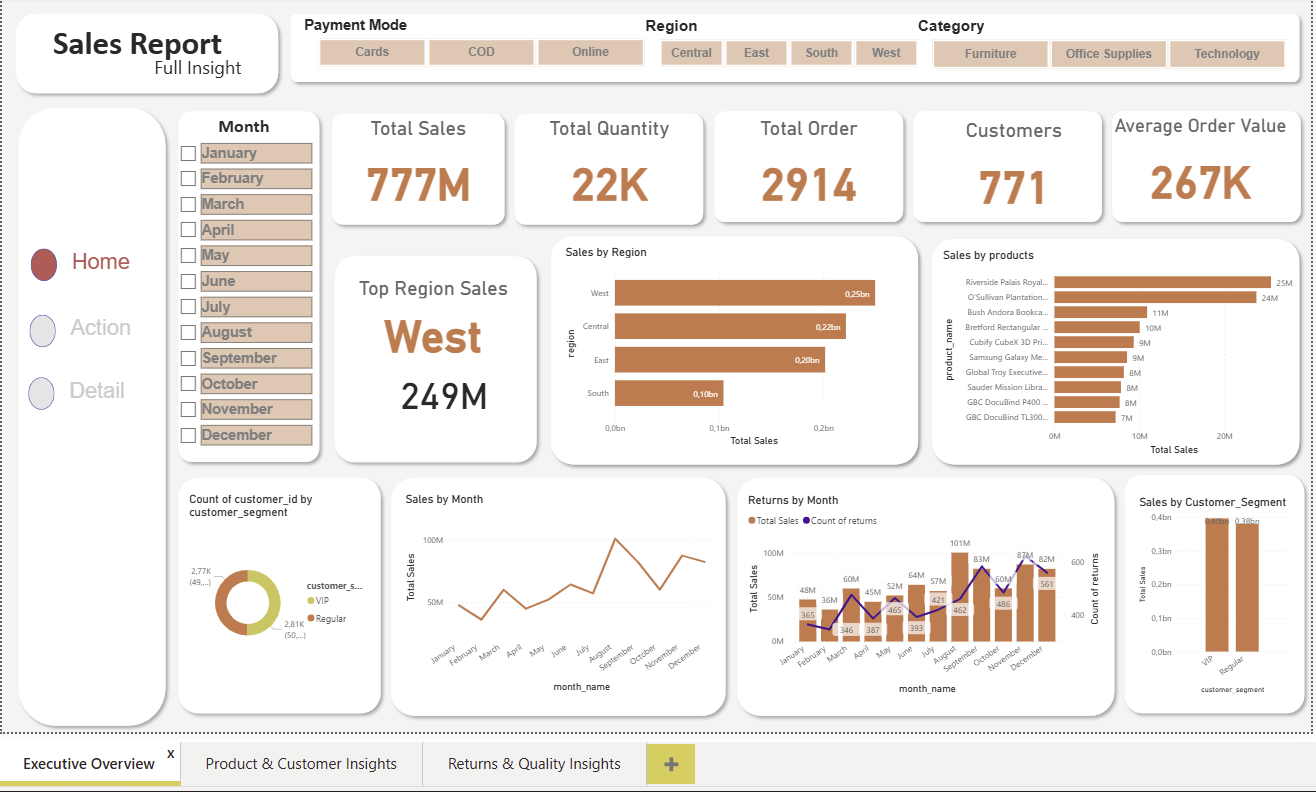

What the dashboard file says about the page in this screenshot:
{"tool":"powerbi","page":{"name":"Executive Overview","canvas":[1600,1000],"ordinal":0},"visuals":[{"type":"slicer","fields":{"Values":["sales_clean.category"]},"box":[50.1,20.7,229.8,79.5],"z":0},{"type":"slicer","fields":{"Values":["sales_clean.month_name"]},"box":[1292.4,25.9,293.7,95],"z":1000},{"type":"slicer","fields":{"Values":["sales_clean.region"]},"box":[611.7,20.7,255.7,79.5],"z":2000},{"type":"card","fields":{"Values":["sales_clean.Total Sales"]},"box":[50.1,157.2,260.9,129.6],"z":3000},{"type":"card","fields":{"Values":["sales_clean.Total Order"]},"box":[1054,155.5,219.4,126.1],"z":5000},{"type":"card","fields":{"Values":["sales_clean.Distinct Customers"]},"box":[1327,159,222.9,122.7],"z":6000},{"type":"card","fields":{"Values":["sales_clean.Total_Quantity"]},"box":[380.1,157.2,231.5,129.6],"z":7000},{"type":"slicer","fields":{"Values":["sales_clean.customer_segment"]},"box":[898.5,27.6,362.9,84.7],"z":8000},{"type":"lineChart","fields":{"Y":["sales_clean.Total Sales"],"Category":["sales_clean.month_name"]},"box":[46.7,343.8,651.4,319.7],"z":9000},{"type":"clusteredBarChart","fields":{"Category":["sales_clean.product_name"],"Y":["sales_clean.Total Sales"]},"box":[762,343.8,743,319.7],"z":10000},{"type":"clusteredBarChart","fields":{"Category":["sales_clean.region"],"Y":["sales_clean.Total Sales"]},"box":[46.7,701.5,485.5,250.5],"z":11000},{"type":"clusteredBarChart","fields":{"Category":["sales_clean.customer_segment"],"Y":["sales_clean.Total Sales"]},"box":[575.4,701.5,464.8,245.4],"z":12000},{"type":"clusteredBarChart","fields":{"Y":["CountNonNull(sales_clean.returns)"],"Category":["sales_clean.month_name"]},"box":[1093.7,701.5,464.8,279.9],"z":13000},{"type":"slicer","fields":{"Values":["sales_clean.sub-category"]},"box":[311,20.7,255.7,79.5],"z":14000}]}

Visuals, with their boxes on the page's 1600x1000 design canvas (x1, y1, x2, y2). These are canvas units, not pixel positions in the 1316x792 screenshot, which may show the page scaled, cropped or inside an application window:
slicer - sales_clean.category: {"x1": 50, "y1": 21, "x2": 280, "y2": 100}
slicer - sales_clean.month_name: {"x1": 1292, "y1": 26, "x2": 1586, "y2": 121}
slicer - sales_clean.region: {"x1": 612, "y1": 21, "x2": 867, "y2": 100}
card - sales_clean.Total Sales: {"x1": 50, "y1": 157, "x2": 311, "y2": 287}
card - sales_clean.Total Order: {"x1": 1054, "y1": 156, "x2": 1273, "y2": 282}
card - sales_clean.Distinct Customers: {"x1": 1327, "y1": 159, "x2": 1550, "y2": 282}
card - sales_clean.Total_Quantity: {"x1": 380, "y1": 157, "x2": 612, "y2": 287}
slicer - sales_clean.customer_segment: {"x1": 898, "y1": 28, "x2": 1261, "y2": 112}
lineChart - sales_clean.Total Sales x sales_clean.month_name: {"x1": 47, "y1": 344, "x2": 698, "y2": 664}
clusteredBarChart - sales_clean.product_name x sales_clean.Total Sales: {"x1": 762, "y1": 344, "x2": 1505, "y2": 664}
clusteredBarChart - sales_clean.region x sales_clean.Total Sales: {"x1": 47, "y1": 702, "x2": 532, "y2": 952}
clusteredBarChart - sales_clean.customer_segment x sales_clean.Total Sales: {"x1": 575, "y1": 702, "x2": 1040, "y2": 947}
clusteredBarChart - CountNonNull(sales_clean.returns) x sales_clean.month_name: {"x1": 1094, "y1": 702, "x2": 1558, "y2": 981}
slicer - sales_clean.sub-category: {"x1": 311, "y1": 21, "x2": 567, "y2": 100}
